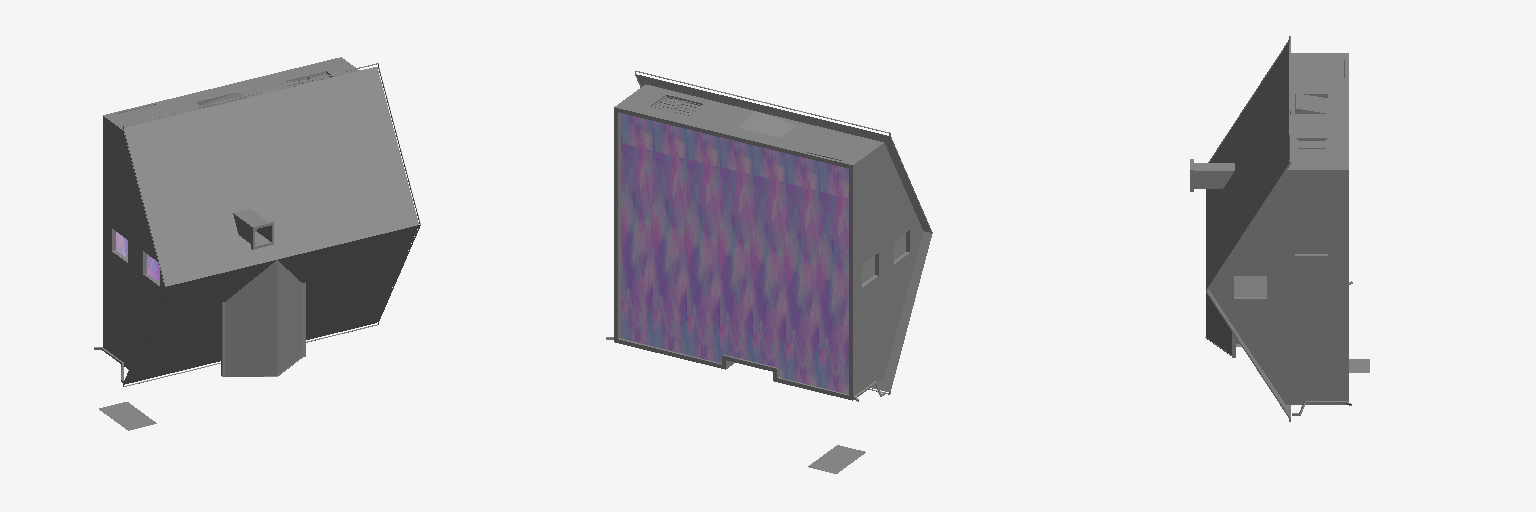
The picture shows the model from 3 angles: view 1: azimuth 30°, elevation 25°; view 2: azimuth 150°, elevation 25°; view 3: azimuth 270°, elevation 25°; orthographic projection.
Parts seen in each view (by area): view 1: Object003, Plane001, Plane002; view 2: Object003, Plane002, Plane001; view 3: Object003, Plane002.
Part boxes in pixels (left/top/right/bottom): Object003: left=94, top=57, right=420, bottom=386; Plane001: left=99, top=402, right=156, bottom=430; Plane002: left=119, top=105, right=171, bottom=125; Object003: left=606, top=71, right=932, bottom=401; Plane002: left=805, top=133, right=864, bottom=159; Plane001: left=808, top=445, right=865, bottom=473; Object003: left=1190, top=36, right=1352, bottom=421; Plane002: left=1293, top=60, right=1343, bottom=77.
Size of the model in its own units: 13515 by 15947 by 8205.
9 materials, 1 textured.